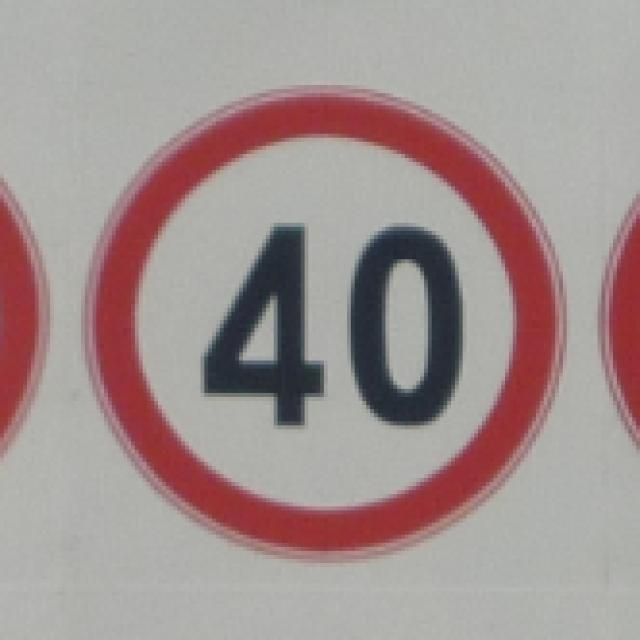speed limit 40: (93, 84, 567, 563)
